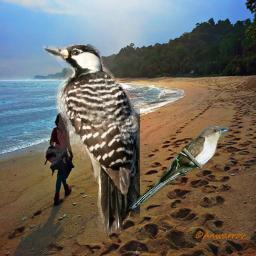Cuckoo: (128, 125, 231, 213)
Woodpecker: (43, 44, 140, 238)
